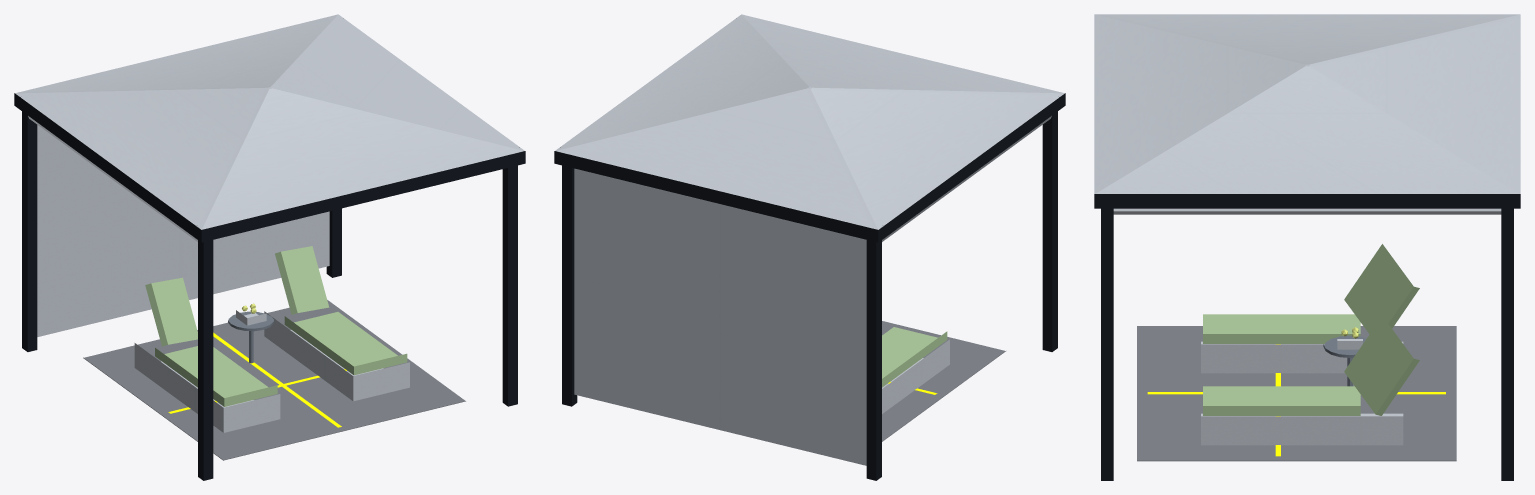
3 views of the same model, side by side, from view 1: azimuth 30°, elevation 25°; view 2: azimuth 150°, elevation 25°; view 3: azimuth 270°, elevation 25° (orthographic). The views are drawn at different scales.
Parts seen in each view (by area): view 1: Fabric_Roof, Fabric_Back_Drop, Court_Rug, Posts, Cushions, Lounger_Frame, Eave_Beams, Court_Line, Side_Table; view 2: Fabric_Back_Drop, Fabric_Roof, Posts, Eave_Beams, Court_Rug, Cushions, Lounger_Frame; view 3: Fabric_Roof, Court_Rug, Cushions, Lounger_Frame, Posts, Eave_Beams, Fabric_Rolls, Side_Table, Court_Line.
Part boxes in pixels (<box>): Fabric_Roof: <box>15,14,524,229</box>; Fabric_Back_Drop: <box>37,125,329,336</box>; Court_Rug: <box>83,300,465,460</box>; Posts: <box>22,111,517,480</box>; Cushions: <box>145,246,407,406</box>; Lounger_Frame: <box>134,311,409,432</box>; Eave_Beams: <box>14,93,525,242</box>; Court_Line: <box>168,332,346,427</box>; Side_Table: <box>228,311,274,363</box>; Fabric_Back_Drop: <box>574,168,866,465</box>; Fabric_Roof: <box>555,14,1064,229</box>; Posts: <box>562,111,1057,480</box>; Eave_Beams: <box>554,93,1065,242</box>; Court_Rug: <box>882,321,1005,441</box>; Cushions: <box>882,327,947,387</box>; Lounger_Frame: <box>882,339,949,413</box>; Fabric_Roof: <box>1094,14,1520,193</box>; Court_Rug: <box>1137,326,1456,461</box>; Cushions: <box>1203,244,1419,415</box>; Lounger_Frame: <box>1201,341,1403,445</box>; Posts: <box>1101,208,1513,480</box>; Eave_Beams: <box>1094,194,1520,208</box>; Fabric_Rolls: <box>1113,208,1501,214</box>; Side_Table: <box>1323,335,1366,386</box>; Court_Line: <box>1147,344,1445,456</box>.
Size of what is drawn, in the model's own units: 4 by 3.4 by 4.
Materials: 7 (3 with a texture image).
